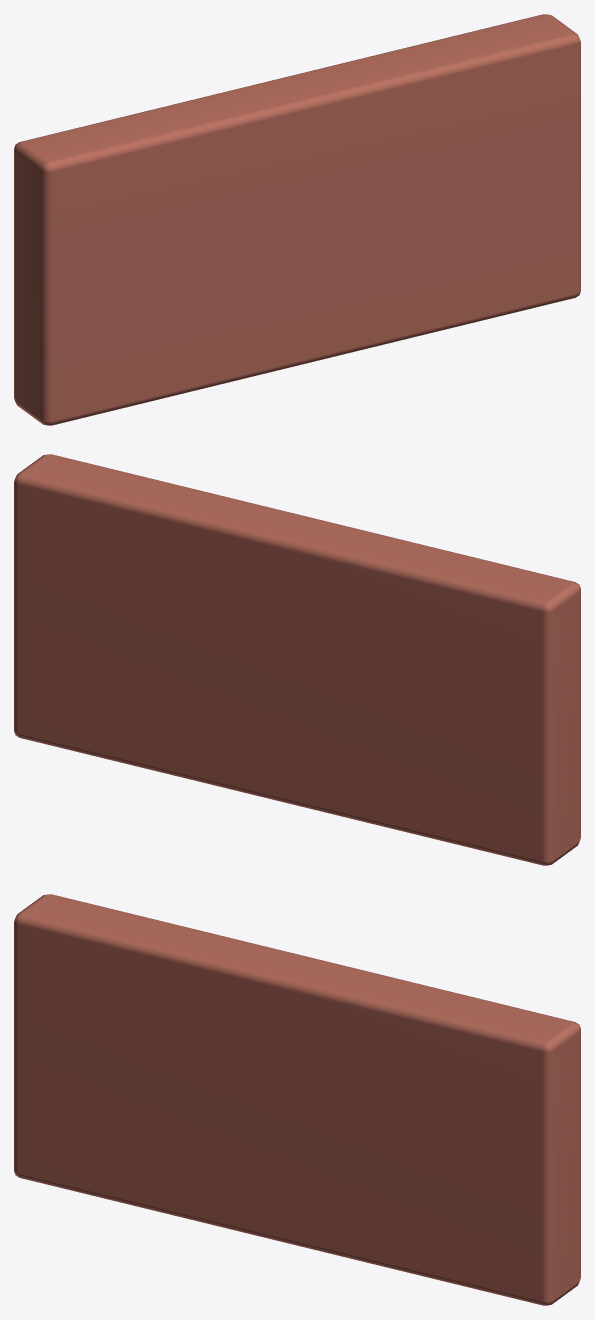
The model's file is Wall_Obstacle_Half.fbx.
3 renders of one model, top to bottom at view 1: azimuth 30°, elevation 25°; view 2: azimuth 150°, elevation 25°; view 3: azimuth 330°, elevation 25°, orthographic.
Visible parts, largest first — view 1: Wall_Obstacle_Half; view 2: Wall_Obstacle_Half; view 3: Wall_Obstacle_Half.
Boxes of the visible parts, left/top/right/bottom form: Wall_Obstacle_Half: left=14, top=14, right=580, bottom=425; Wall_Obstacle_Half: left=14, top=454, right=580, bottom=865; Wall_Obstacle_Half: left=14, top=894, right=580, bottom=1305.
Size of the model in its own units: 213 by 100 by 23.89.
